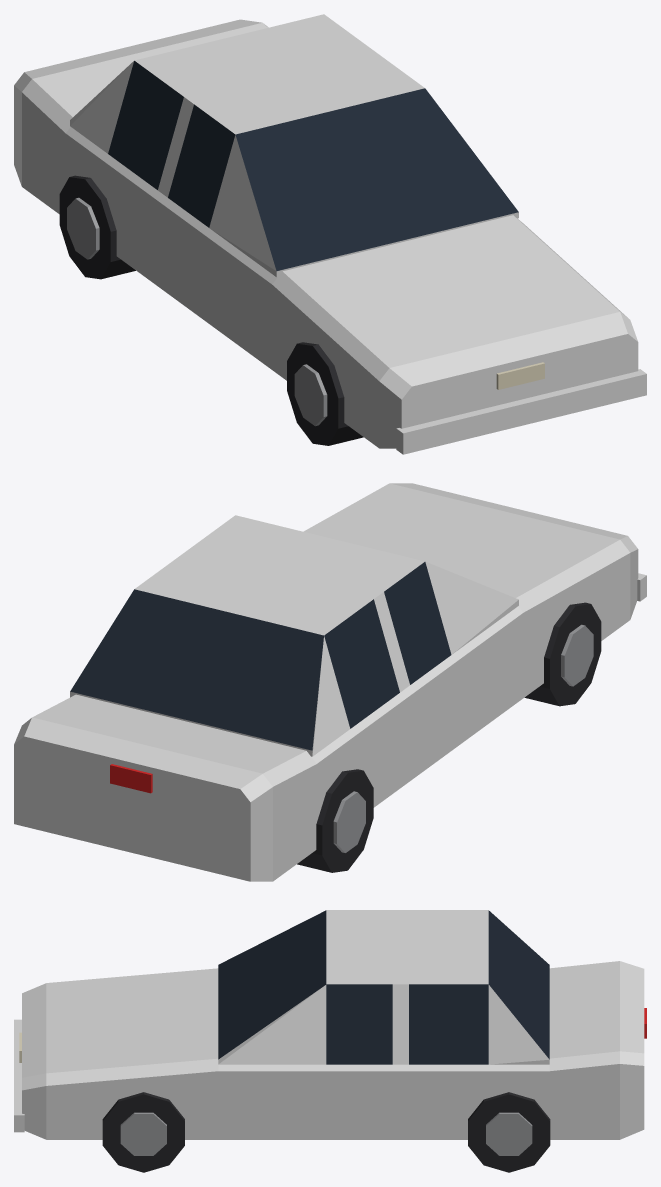
The model's file is voiture_berline.glb.
3 renders of one model, top to bottom at view 1: azimuth 30°, elevation 25°; view 2: azimuth 150°, elevation 25°; view 3: azimuth 270°, elevation 25°, orthographic. The views are drawn at different scales.
Parts seen in each view (by area): view 1: voiture_berline; view 2: voiture_berline; view 3: voiture_berline.
Part boxes in pixels (x1,y1,x2,y2): voiture_berline: (14, 14, 646, 454); voiture_berline: (14, 483, 646, 881); voiture_berline: (14, 910, 646, 1172).
Bounding box in the file's own units: 1.85 × 1.42 × 4.68.
